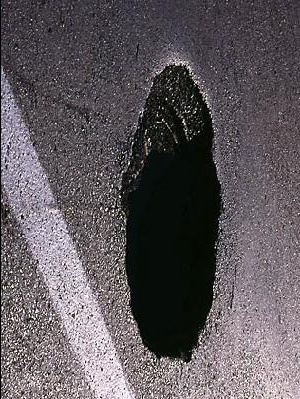pothole: (118, 55, 228, 366)
